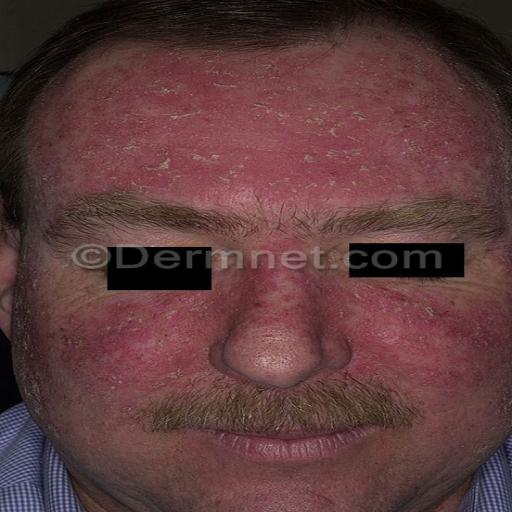Skin_Lesion: (258, 60, 372, 188), (350, 294, 496, 388), (157, 62, 242, 192), (396, 58, 470, 196), (212, 263, 276, 359), (286, 269, 336, 345), (84, 141, 135, 189), (110, 356, 170, 396), (105, 293, 151, 345), (106, 72, 143, 117), (56, 313, 86, 367), (89, 98, 113, 122), (54, 122, 78, 145)
